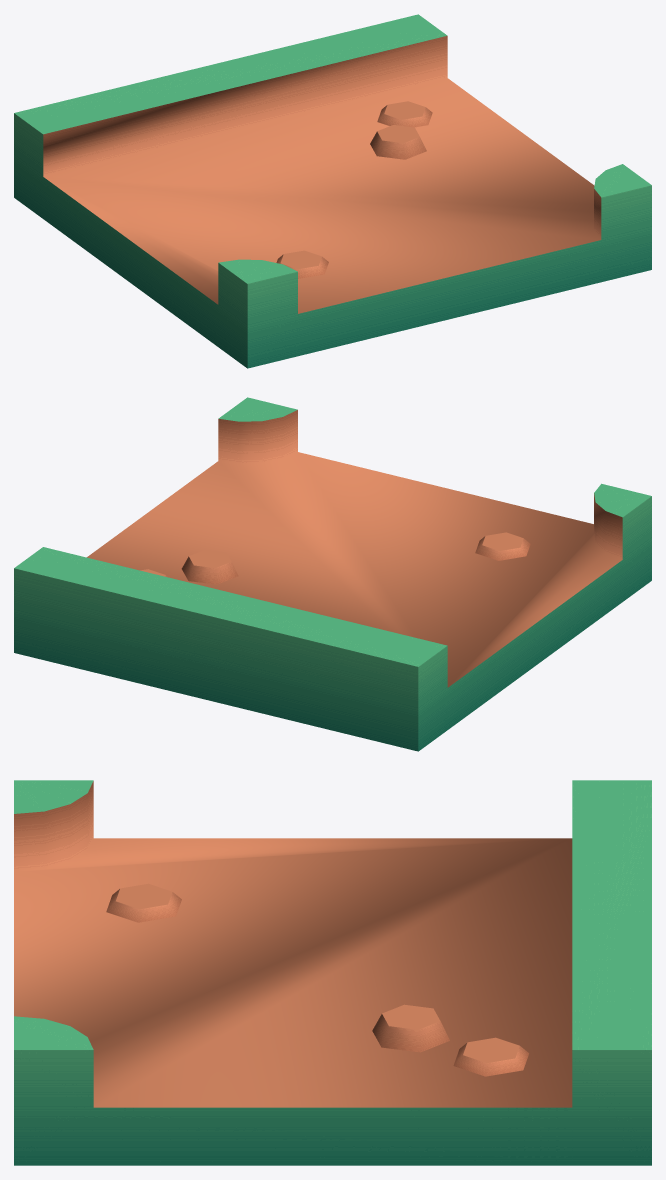
The model's file is tile-split.glb.
3 renders of one model, top to bottom at view 1: azimuth 30°, elevation 25°; view 2: azimuth 150°, elevation 25°; view 3: azimuth 270°, elevation 25°, orthographic. The views are drawn at different scales.
Parts seen in each view (by area): view 1: tile-split; view 2: tile-split; view 3: tile-split.
Part boxes in pixels (left/top/right/bottom): tile-split: left=14, top=14, right=651, bottom=368; tile-split: left=14, top=397, right=651, bottom=751; tile-split: left=14, top=780, right=651, bottom=1165.
Bounding box in the file's own units: 1 × 0.2 × 1.
1 material, 1 textured.
